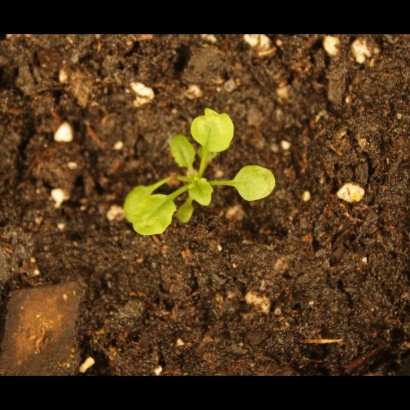leaf: (187, 102, 239, 154), (229, 156, 280, 208), (130, 193, 178, 239), (161, 131, 198, 168), (186, 174, 218, 210), (117, 183, 150, 217), (173, 199, 196, 227)
